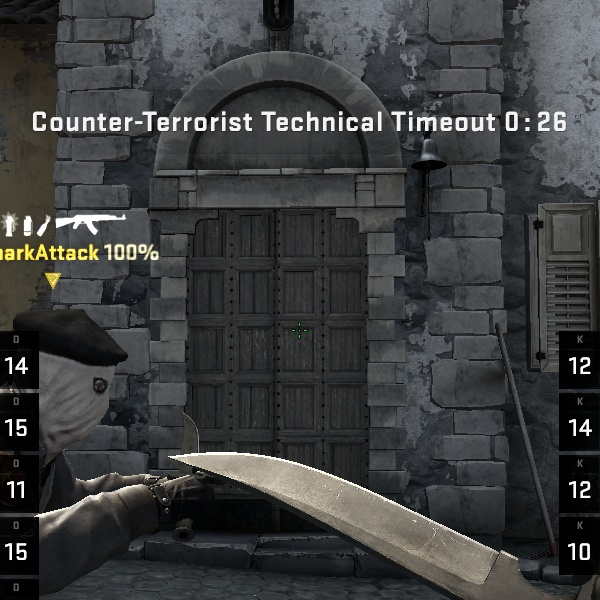ct_head: (0, 297, 134, 449)
